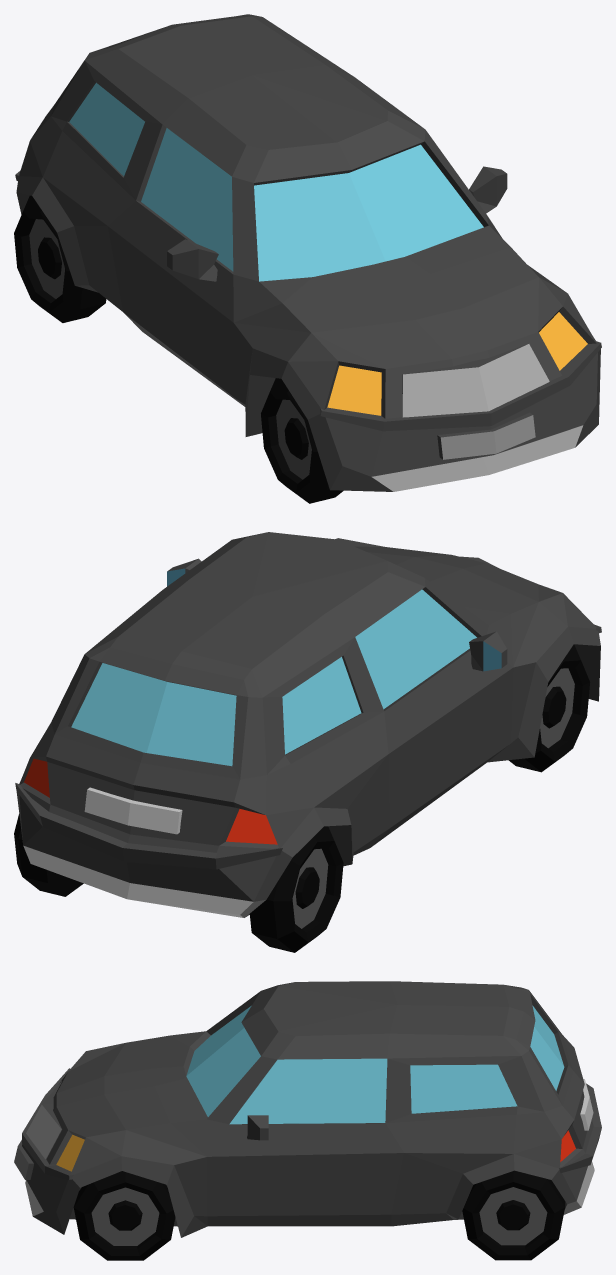
The model's file is car-1.fbx.
The picture shows the model from 3 angles, top to bottom: view 1: azimuth 30°, elevation 25°; view 2: azimuth 150°, elevation 25°; view 3: azimuth 270°, elevation 25°; orthographic projection. The views are drawn at different scales.
Visible parts, largest first — view 1: Car 1, Wheel1-4, Wheel1-1; view 2: Car 1, Wheel1-4, Wheel1-1, Wheel1-3; view 3: Car 1, Wheel1-3, Wheel1-2.
Part boxes in pixels (left/top/right/bottom): Car 1: left=15, top=14, right=601, bottom=491; Wheel1-4: left=14, top=195, right=106, bottom=322; Wheel1-1: left=261, top=378, right=343, bottom=503; Car 1: left=15, top=532, right=601, bottom=917; Wheel1-4: left=249, top=826, right=343, bottom=952; Wheel1-1: left=509, top=644, right=590, bottom=772; Wheel1-3: left=14, top=814, right=83, bottom=896; Car 1: left=14, top=981, right=601, bottom=1237; Wheel1-3: left=462, top=1170, right=565, bottom=1260; Wheel1-2: left=73, top=1171, right=175, bottom=1260.
Size of the model in its own units: 526 by 395 by 1019.
